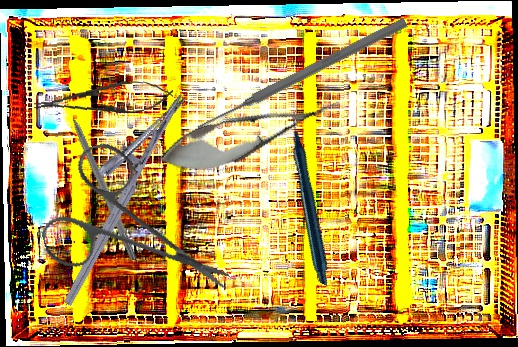Handpiece: (232, 107, 391, 286)
Hook Surgical: (61, 96, 140, 262)
Iris Scissors: (22, 120, 233, 333)
Micro Scissor: (149, 81, 349, 187)
Needle Holder: (34, 77, 188, 307), (32, 77, 175, 121)
Pusher: (194, 14, 409, 135)
